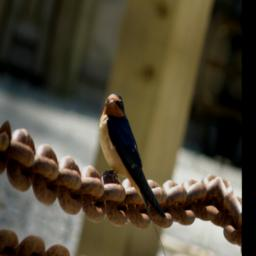Swallow: (75, 89, 199, 256)
